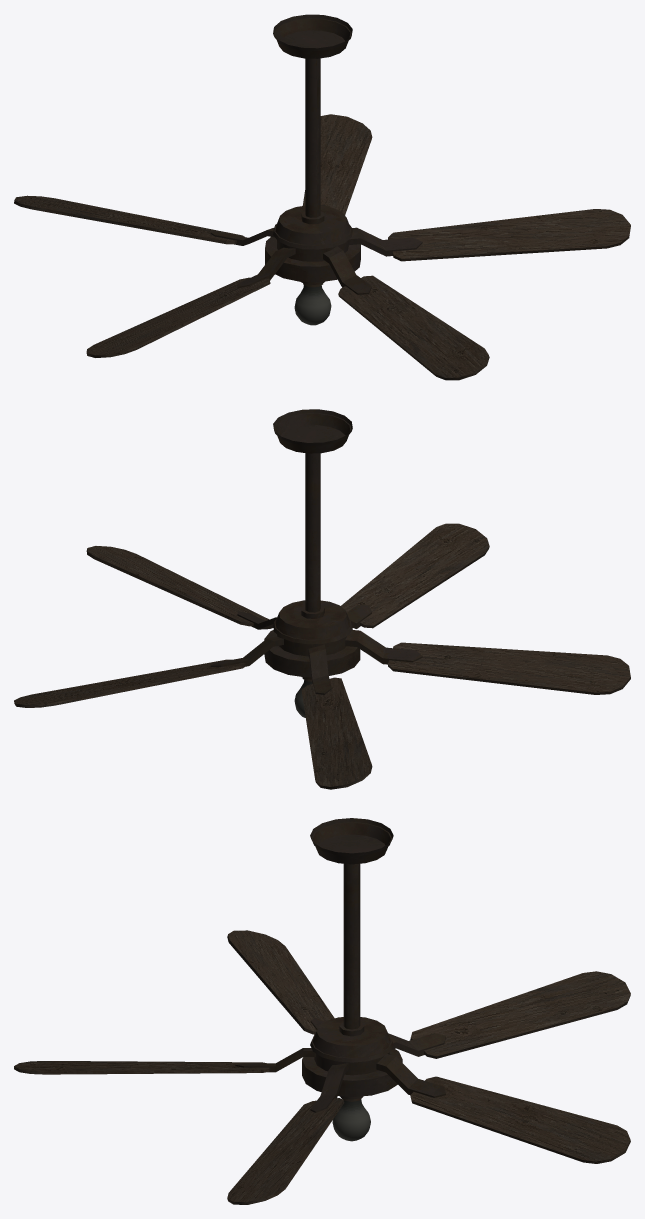
Rendered from ceiling_fan_mp_2_1_light_off.glb.
The picture shows the model from 3 angles, top to bottom: view 1: azimuth 30°, elevation 25°; view 2: azimuth 150°, elevation 25°; view 3: azimuth 270°, elevation 25°; orthographic projection. The views are drawn at different scales.
Parts seen in each view (by area): view 1: ceiling_fan_mp_2_1_light_off_blades, ceiling_fan_mp_2_1_light_off; view 2: ceiling_fan_mp_2_1_light_off_blades, ceiling_fan_mp_2_1_light_off; view 3: ceiling_fan_mp_2_1_light_off_blades, ceiling_fan_mp_2_1_light_off.
Boxes of the visible parts, x1=… form: ceiling_fan_mp_2_1_light_off_blades: x1=14, y1=114, x2=630, y2=380; ceiling_fan_mp_2_1_light_off: x1=265, y1=14, x2=360, y2=325; ceiling_fan_mp_2_1_light_off_blades: x1=14, y1=523, x2=630, y2=789; ceiling_fan_mp_2_1_light_off: x1=264, y1=409, x2=360, y2=717; ceiling_fan_mp_2_1_light_off_blades: x1=14, y1=930, x2=630, y2=1204; ceiling_fan_mp_2_1_light_off: x1=302, y1=818, x2=402, y2=1141.
Size of the model in its own units: 1.14 by 0.5966 by 1.1.
3 materials, 3 textured.
